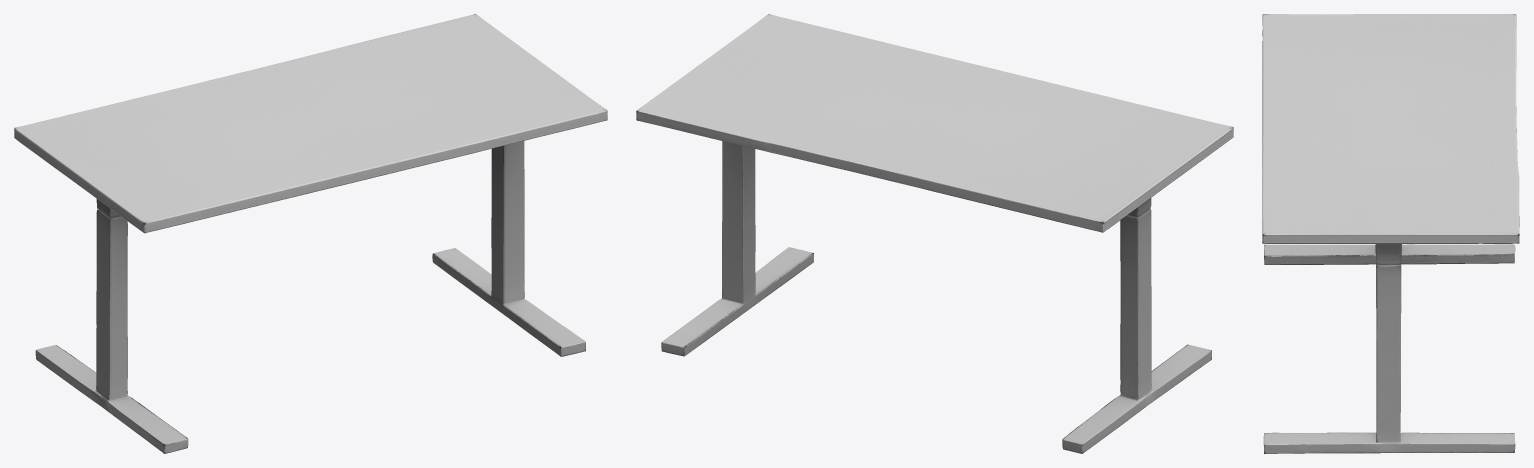
The model's file is Desk.fbx.
3 views of the same model, side by side, from view 1: azimuth 30°, elevation 25°; view 2: azimuth 150°, elevation 25°; view 3: azimuth 270°, elevation 25° (orthographic). The views are drawn at different scales.
Parts seen in each view (by area): view 1: geometry_0; view 2: geometry_0; view 3: geometry_0.
Part boxes in pixels (left/top/right/bottom): geometry_0: left=14, top=14, right=607, bottom=453; geometry_0: left=636, top=14, right=1233, bottom=453; geometry_0: left=1262, top=14, right=1519, bottom=453.
Size of the model in its own units: 100 by 48.8 by 49.45.
